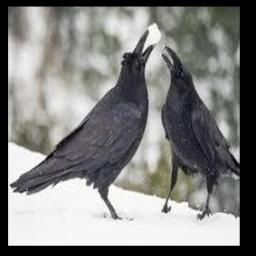Crow: (9, 28, 156, 220), (159, 45, 240, 221)
